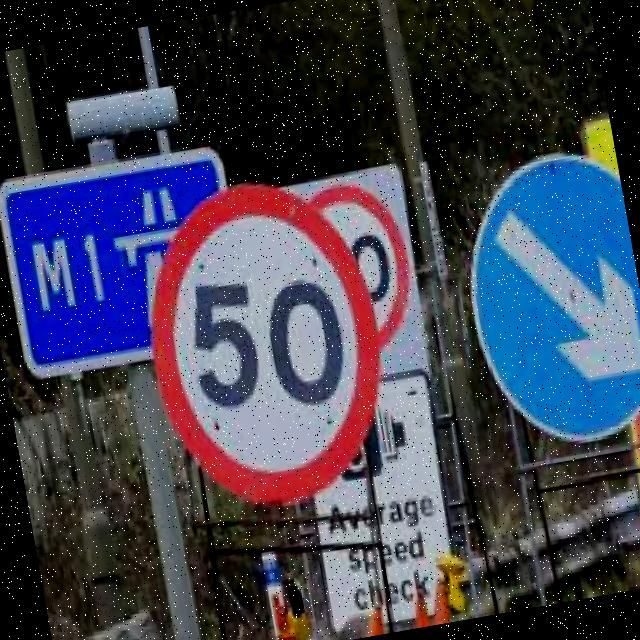Ograniczenie predkosci do 50: (124, 155, 405, 528)
